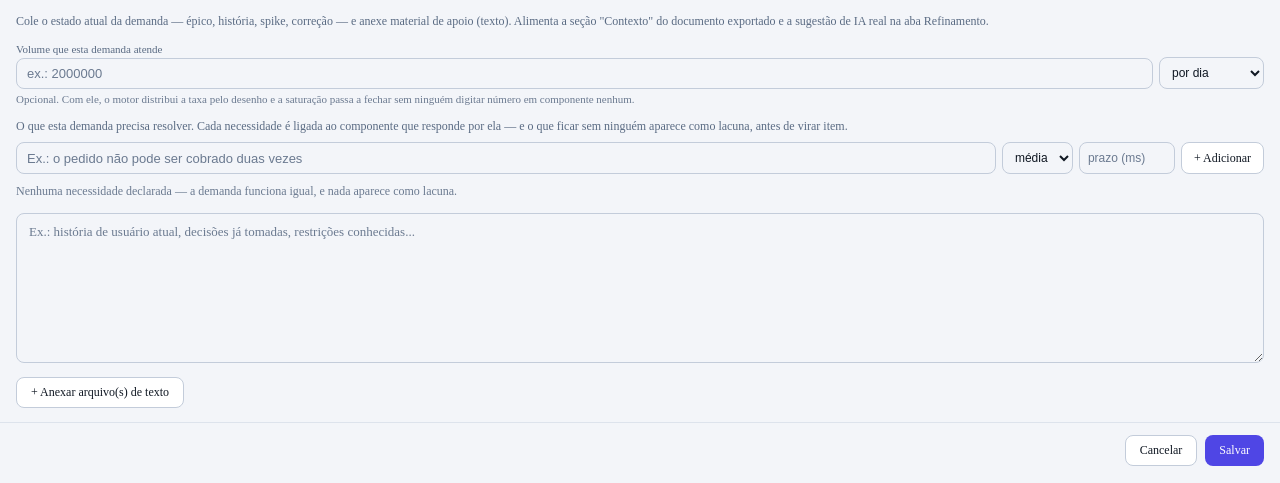
Test case: ContextoEpicoPanel — a volumetria da demanda (SPEC-70) › a prévia mostra o req/s ENQUANTO se digita — é o número que a conta usa
The width and height of the screenshot is (1280, 483).
Step 1. Type "600" into the number field with test id "volumetria-quantidade" → [584, 73], box x1=16 y1=58 x2=1153 y2=88
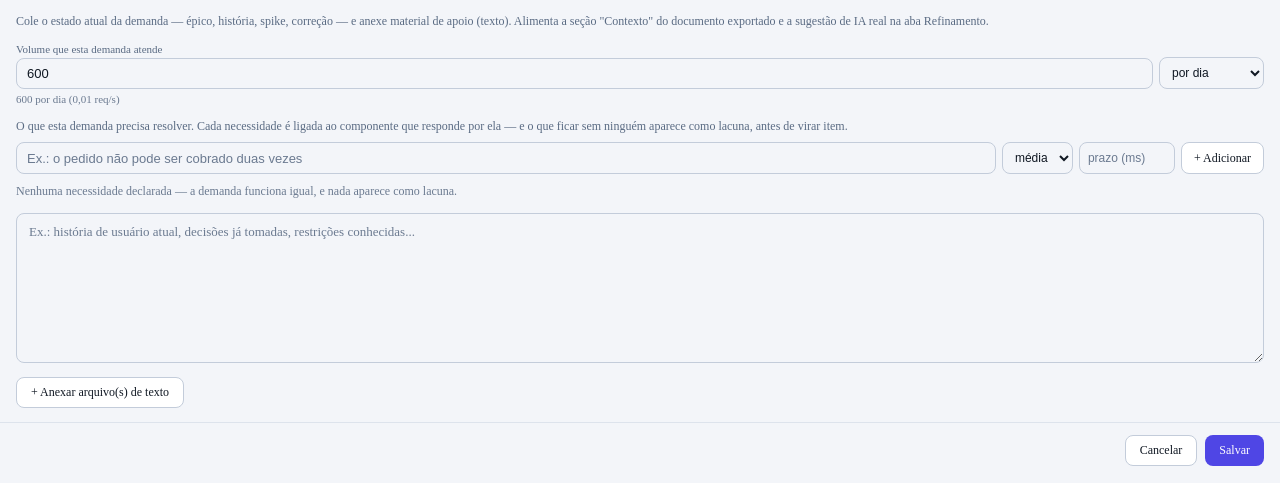
Step 2. Select "por minuto" in the dropdown with test id "volumetria-por" → [1212, 73], box x1=1159 y1=57 x2=1264 y2=89
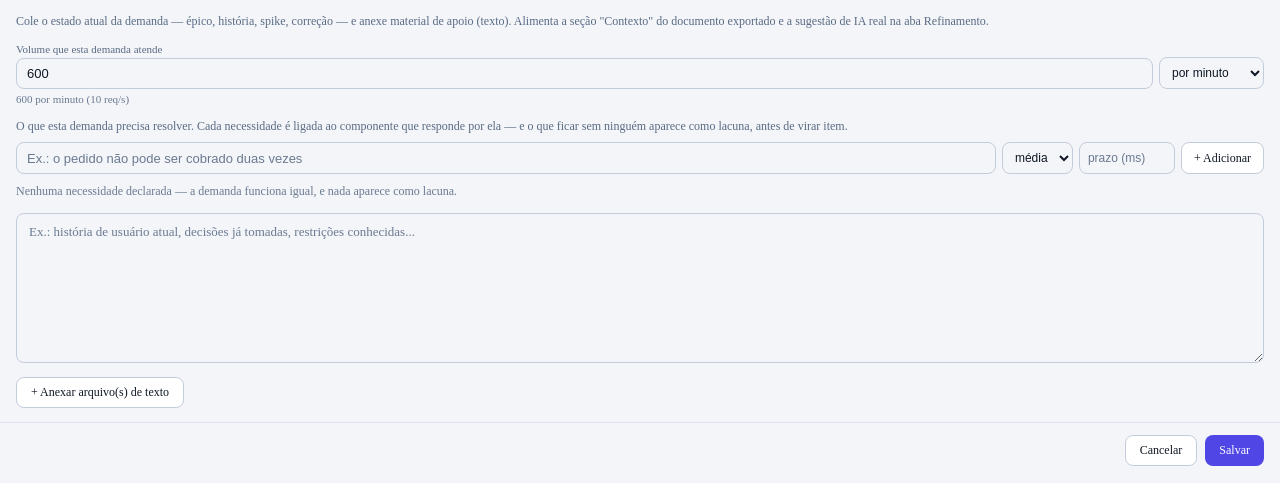
Now the text with test id "volumetria-derivada" shows "10 req/s", box x1=16 y1=93 x2=129 y2=105
